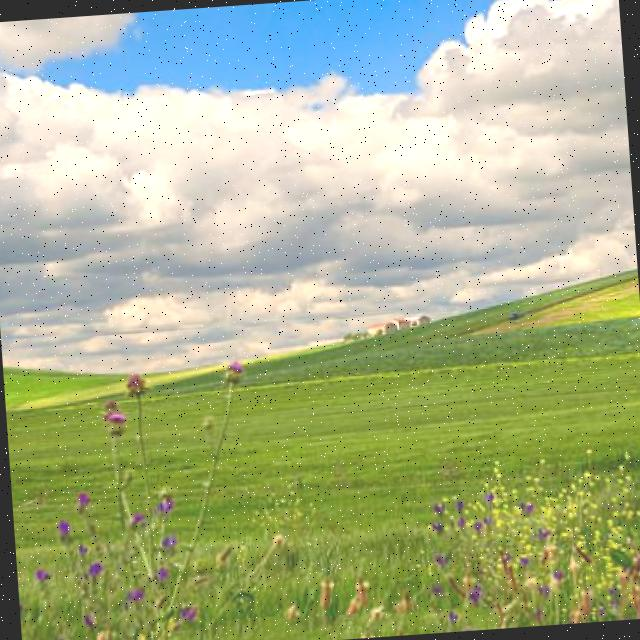Ns: (1, 1, 638, 320)
